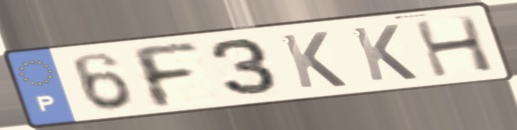3: (207, 38, 282, 98)
6: (70, 51, 135, 114)
F: (125, 41, 204, 111)
H: (409, 13, 498, 80)
K: (347, 22, 421, 84), (277, 29, 351, 91)
